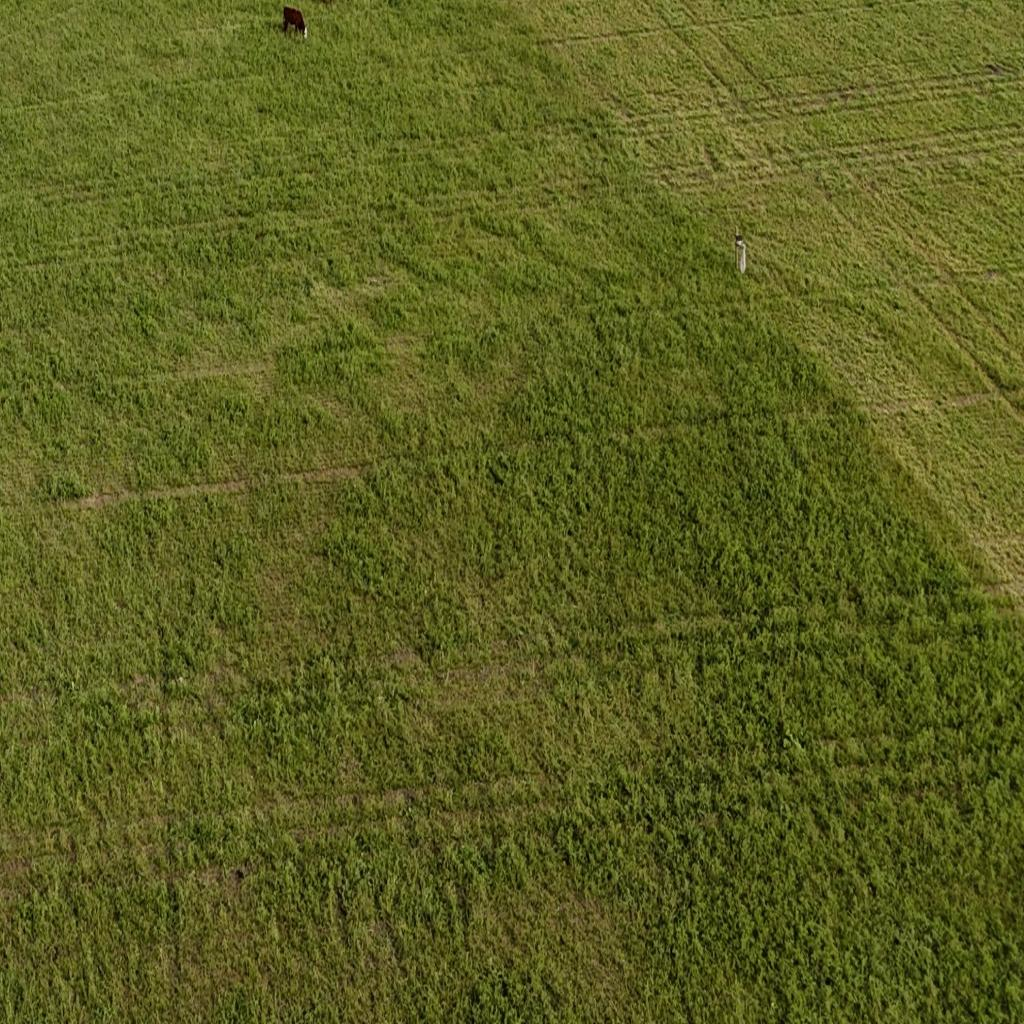cow: (283, 6, 307, 40)
